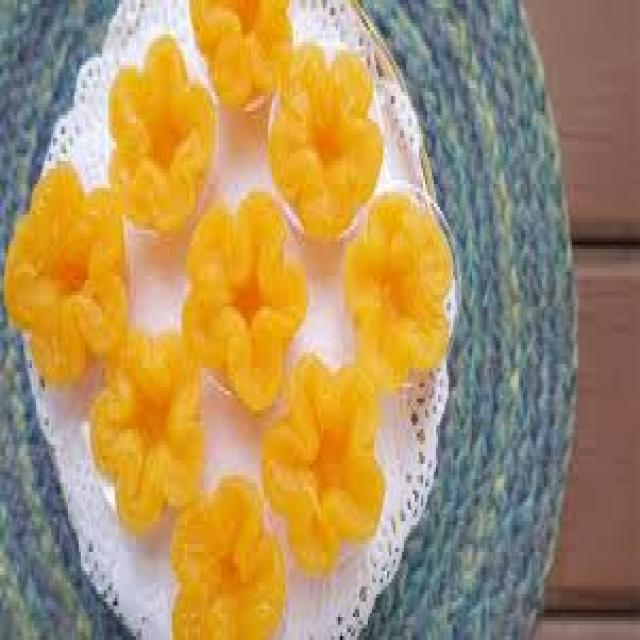Tongyib: (182, 193, 304, 407), (270, 40, 393, 246), (2, 178, 133, 366), (270, 370, 385, 576), (90, 316, 207, 513), (106, 42, 212, 234), (348, 188, 456, 376), (169, 485, 281, 640)
